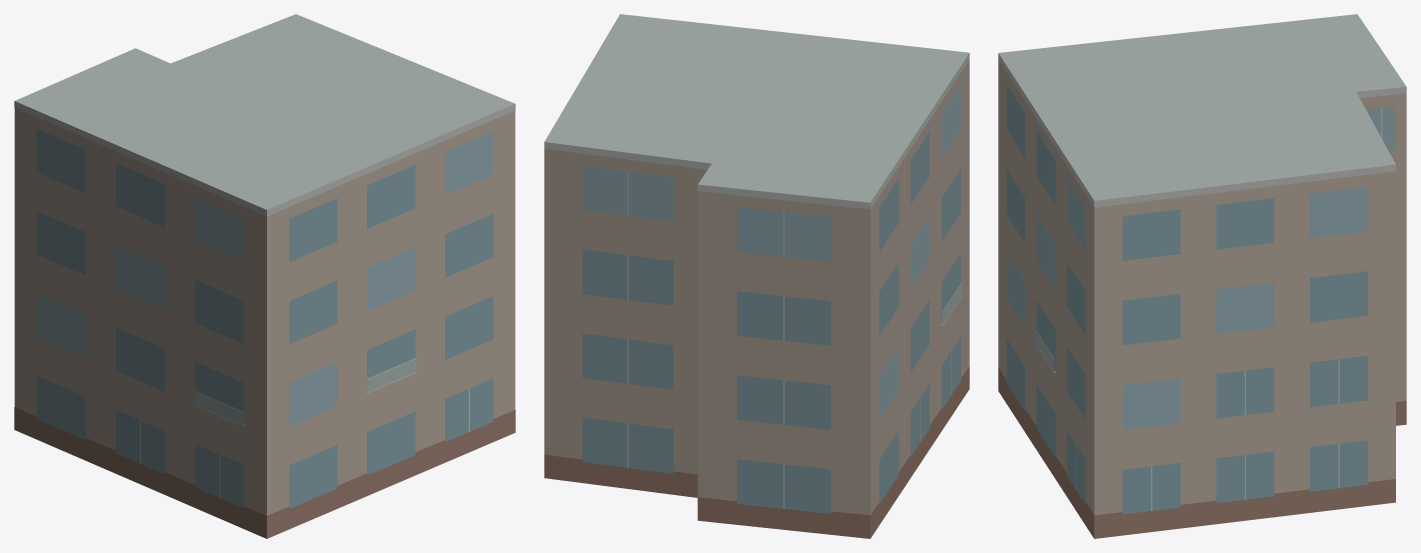
File: survey-upis-32693137.glb
3 renders of one model, left to right at view 1: azimuth 30°, elevation 25°; view 2: azimuth 150°, elevation 25°; view 3: azimuth 270°, elevation 25°, orthographic. The views are drawn at different scales.
Visible parts, largest first — view 1: survey-upis-32693137.tmp; view 2: survey-upis-32693137.tmp; view 3: survey-upis-32693137.tmp.
Boxes of the visible parts, x1,y1,x2,y2 form: survey-upis-32693137.tmp: (14, 14, 515, 538); survey-upis-32693137.tmp: (544, 14, 969, 538); survey-upis-32693137.tmp: (998, 14, 1406, 538).
Size of the model in its own units: 14.48 by 12.2 by 13.37.
